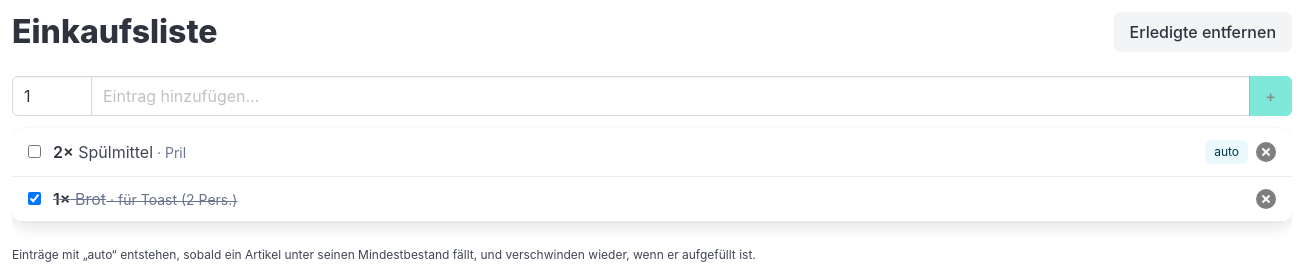
Test: ShoppingListPage › adds, toggles and removes entries
Expected: the text "Spülmittel" is shown, x1=78 y1=142 x2=153 y2=162
Expected: the text "auto" is shown, x1=1205 y1=140 x2=1248 y2=164
Replace the text in the number field named "Menge" with "3" at (52, 96), box x1=12 y1=76 x2=92 y2=116
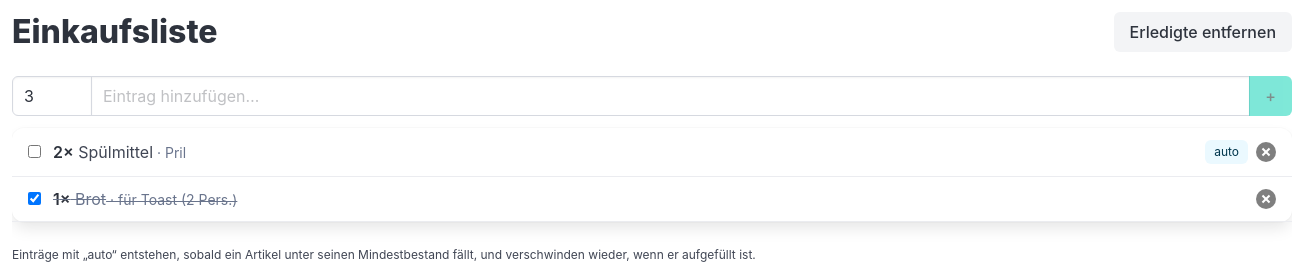
Type " Milch " into the field with placeholder "Eintrag hinzufügen…" at (671, 96), box x1=91 y1=76 x2=1250 y2=116
Then press Enter
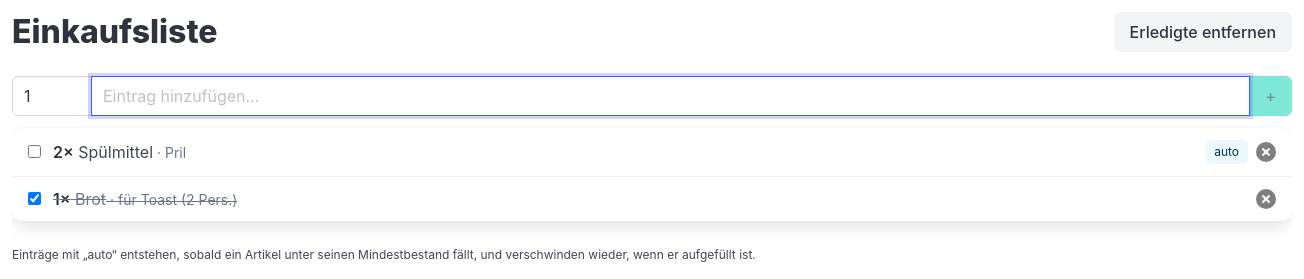
Click the checkbox labelled "1× Brot · für Toast (2 Pers.)" at (34, 198), box x1=28 y1=192 x2=41 y2=205
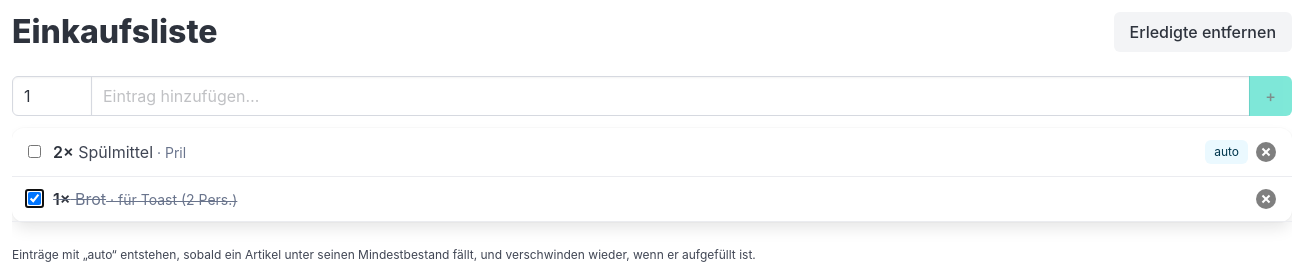
Click the button named "Brot entfernen" at (1266, 199), box x1=1256 y1=189 x2=1276 y2=209
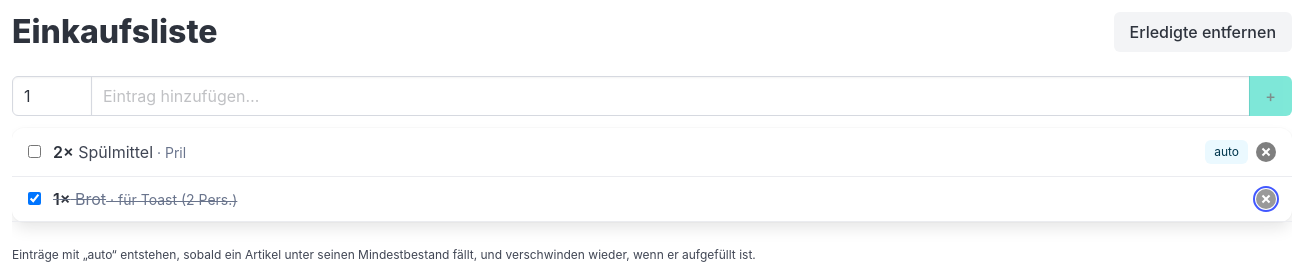
Click the button "Erledigte entfernen" at (1203, 32), box x1=1114 y1=12 x2=1292 y2=52
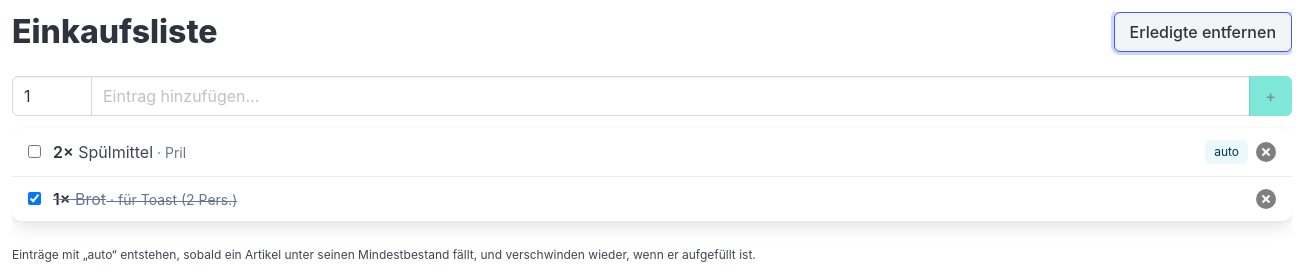
Click the button "Erledigte entfernen" at (1203, 32), box x1=1114 y1=12 x2=1292 y2=52
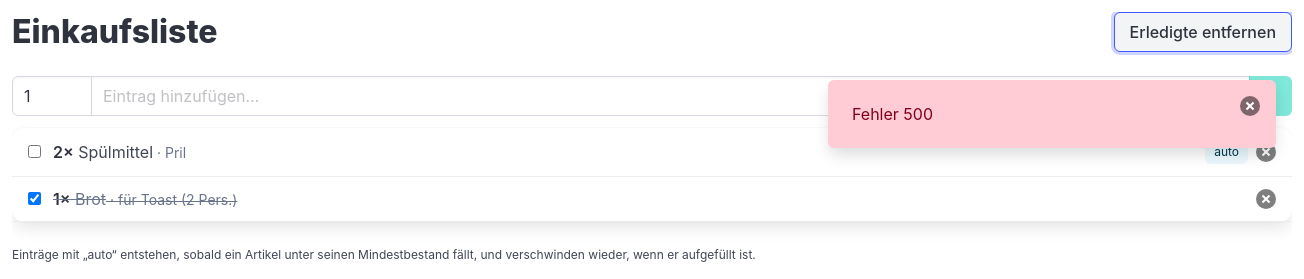
Now the text "Fehler 500" is shown, box x1=828 y1=80 x2=1276 y2=148
